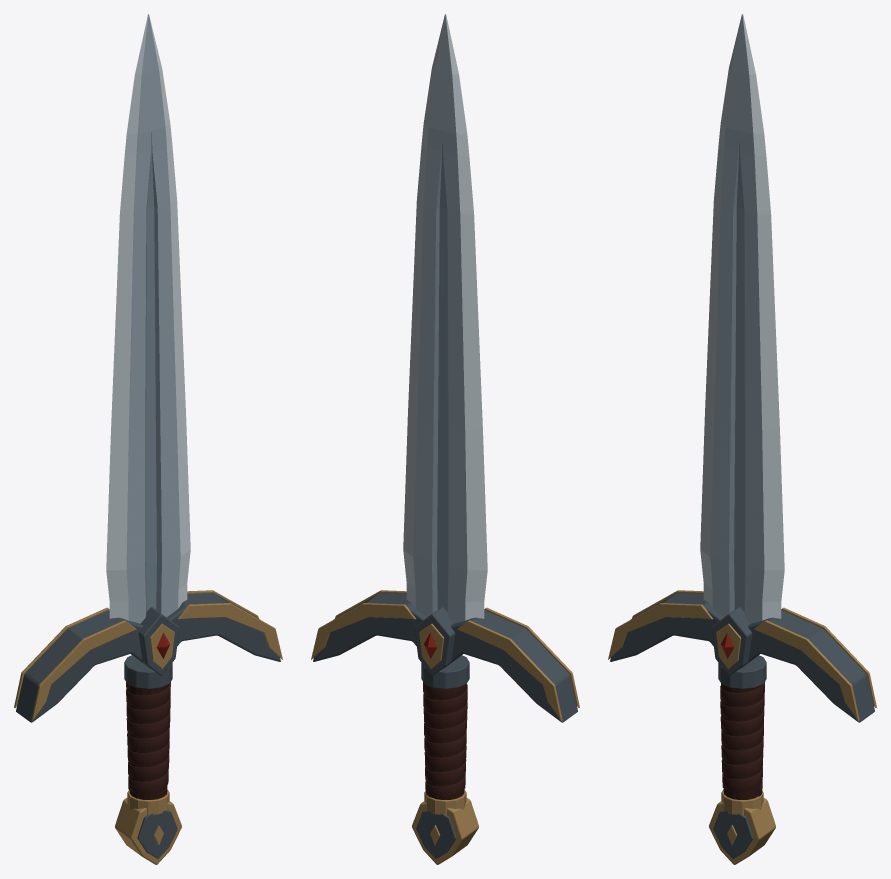
The model's file is warden_sword.glb.
3 views of the same model, side by side, from view 1: azimuth 30°, elevation 25°; view 2: azimuth 150°, elevation 25°; view 3: azimuth 330°, elevation 25° (orthographic).
Parts seen in each view (by area): view 1: Oathkeeper_Sword; view 2: Oathkeeper_Sword; view 3: Oathkeeper_Sword.
Part boxes in pixels (bbox=[...]): Oathkeeper_Sword: bbox=[14, 14, 282, 864]; Oathkeeper_Sword: bbox=[311, 14, 579, 864]; Oathkeeper_Sword: bbox=[608, 14, 876, 864].
Size of the model in its own units: 0.3676 by 1.18 by 0.09.
8 materials, 4 textured.
